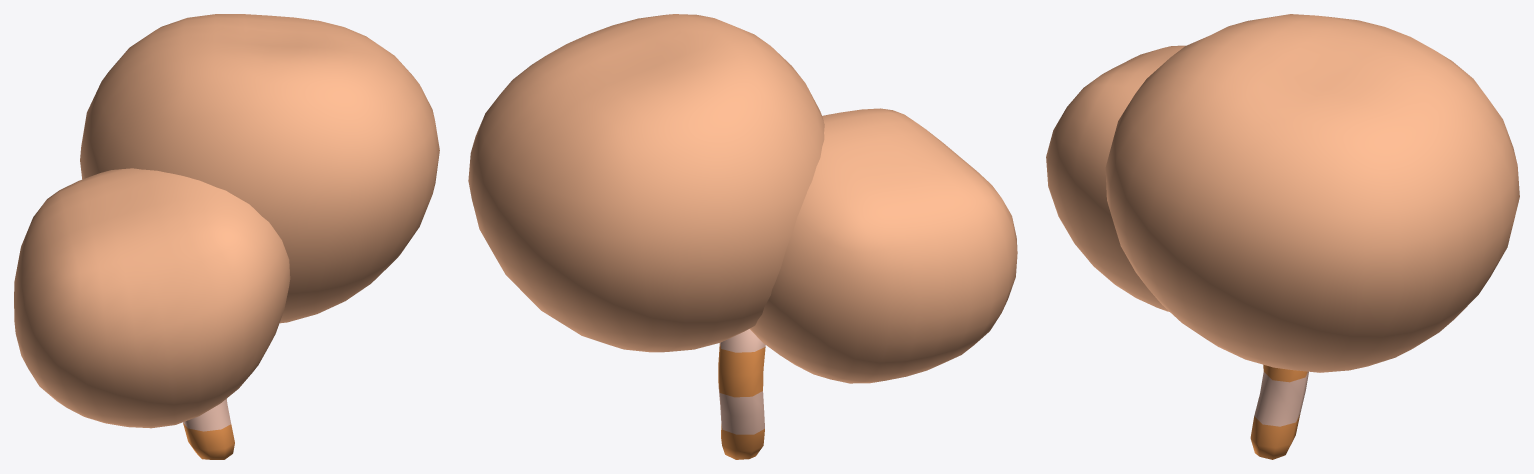
Rendered from Tree_Marshmallow_02.fbx.
3 views of the same model, side by side, from view 1: azimuth 30°, elevation 25°; view 2: azimuth 150°, elevation 25°; view 3: azimuth 270°, elevation 25° (orthographic). The views are drawn at different scales.
Parts seen in each view (by area): view 1: Tree_Marshmallow_02_LOD0; view 2: Tree_Marshmallow_02_LOD0; view 3: Tree_Marshmallow_02_LOD0.
Part boxes in pixels (x1,y1,x2,y2): Tree_Marshmallow_02_LOD0: [14, 14, 439, 459]; Tree_Marshmallow_02_LOD0: [468, 14, 1017, 459]; Tree_Marshmallow_02_LOD0: [1046, 14, 1519, 459].
Size of what is drawn, in the model's own units: 790 by 673 by 654.
